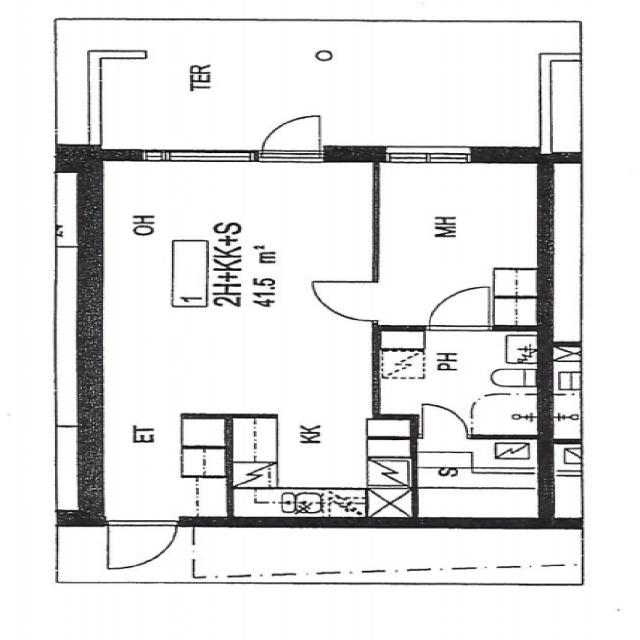door: (108, 517, 176, 572), (310, 281, 380, 321), (262, 112, 319, 160), (431, 287, 488, 330), (423, 405, 467, 439)
